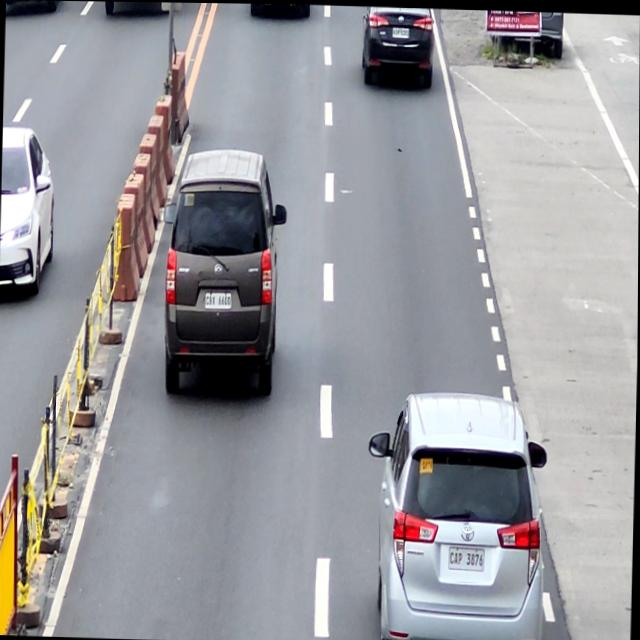Car: (362, 387, 549, 640), (157, 146, 288, 400), (359, 5, 437, 88)
License-Plate: (448, 544, 485, 569), (204, 291, 233, 309), (392, 26, 409, 36)
